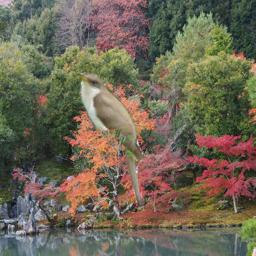Cuckoo: (70, 69, 147, 213)
